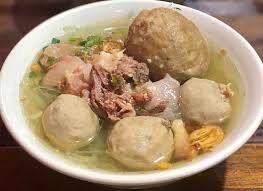Bakso besar: (126, 6, 211, 80)
Bakso sedang: (109, 116, 175, 168), (42, 94, 99, 149), (178, 77, 231, 122)
